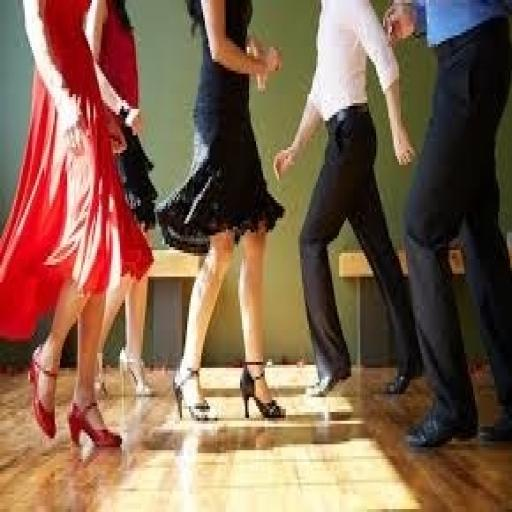dancing: (155, 0, 288, 427)
